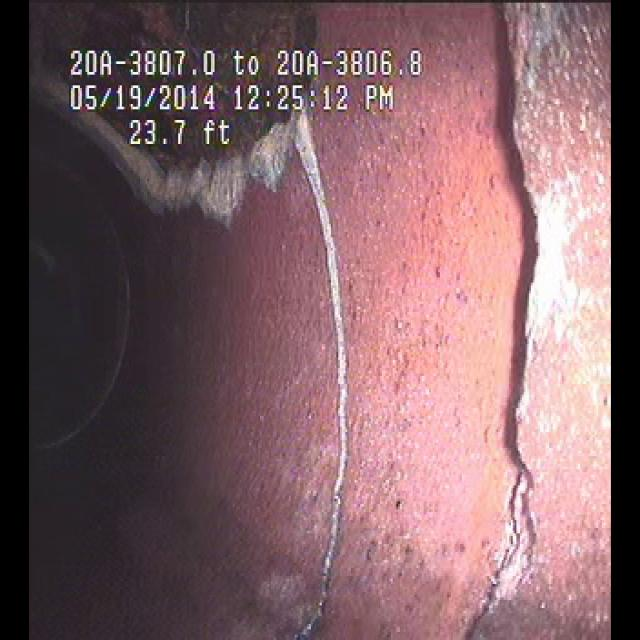Crack: (255, 127, 406, 637)
